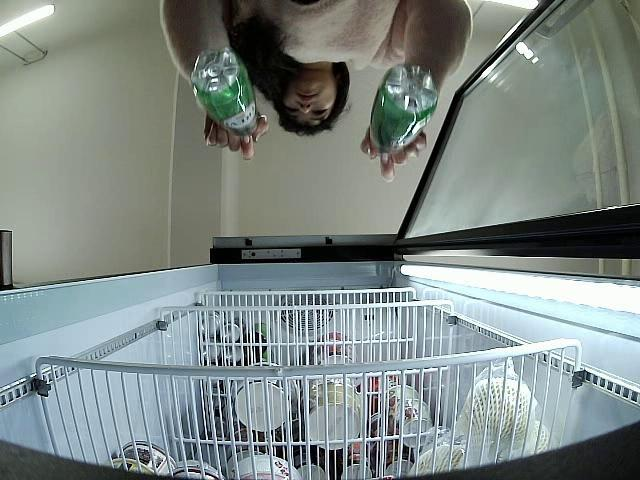18_trevi: (190, 48, 261, 136), (368, 64, 437, 150)
